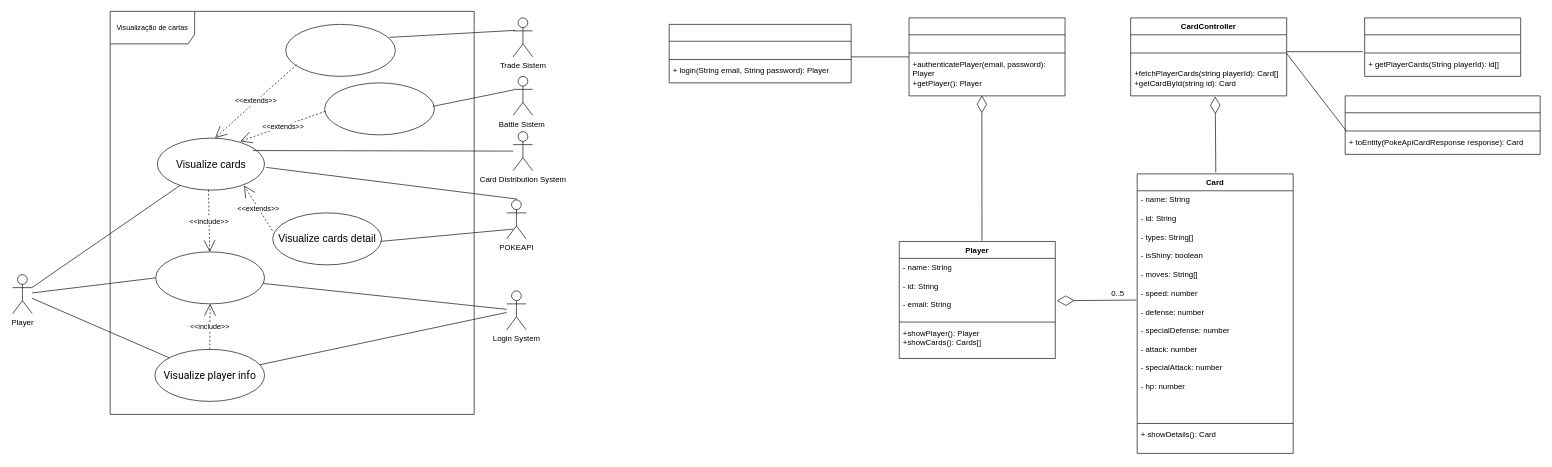
The diagram is 1552 pixels wide and 467 high, and some of its shapes have lost their labels. The shapes that lost their labels are listed below. From the top down, each one's box as (x1, y1, x2, y2) in pixels, then its label:
(285, 24, 395, 76): trade
(669, 24, 851, 83): Auth Service
(908, 17, 1065, 96): UserController
(1364, 17, 1521, 76): Card Distribution Service
(324, 82, 434, 135): Batte
(1345, 95, 1540, 154): PokeApiToEntityMapper
(155, 251, 265, 304): Login
